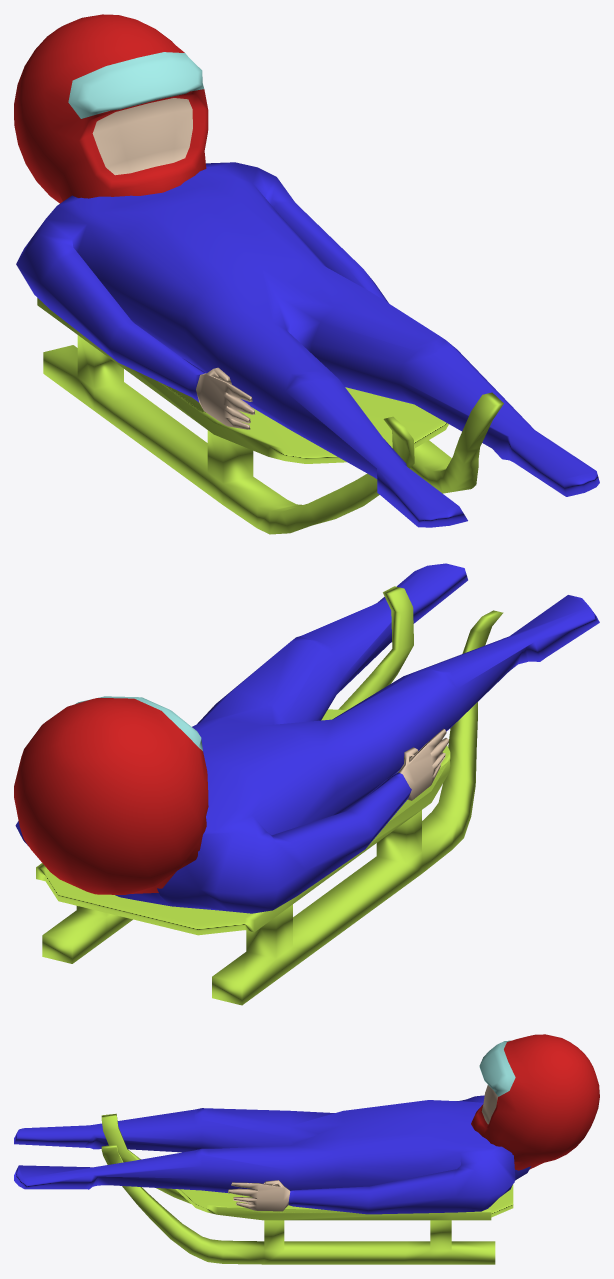
Rendered from ExportedFBXFile.fbx.
The picture shows the model from 3 angles, top to bottom: view 1: azimuth 30°, elevation 25°; view 2: azimuth 150°, elevation 25°; view 3: azimuth 270°, elevation 25°; orthographic projection. The views are drawn at different scales.
Visible parts, largest first — view 1: LUGER; view 2: LUGER; view 3: LUGER.
Part boxes in pixels (x1,y1,x2,y2): LUGER: (14, 14, 599, 534); LUGER: (14, 563, 599, 1005); LUGER: (14, 1034, 599, 1264).
Size of the model in its own units: 1.29 by 1.39 by 3.82.
